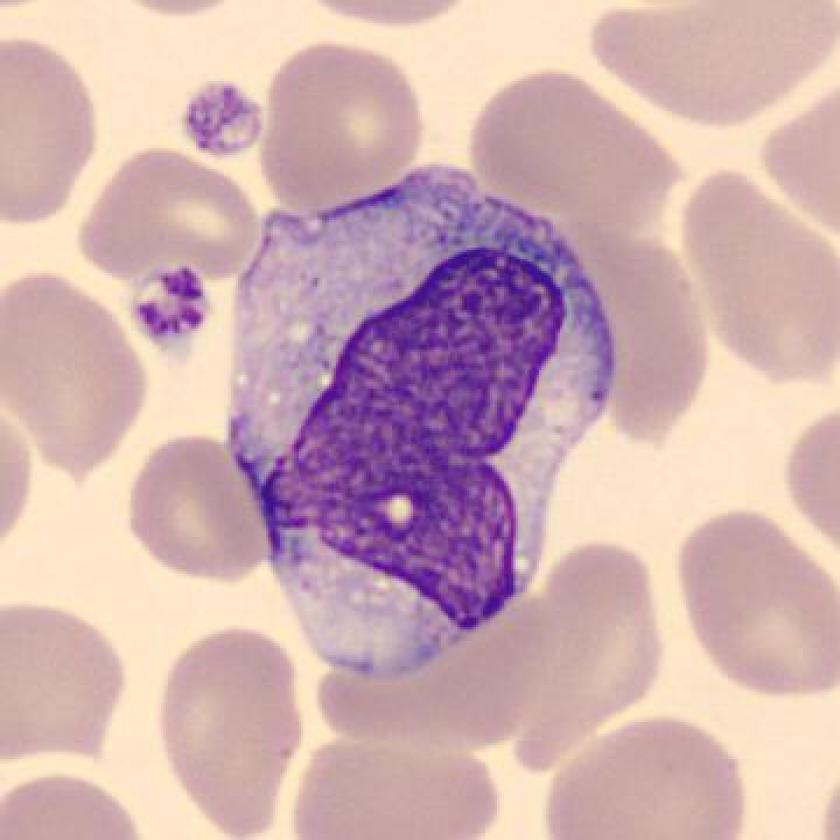monocyte: (202, 152, 643, 696)
